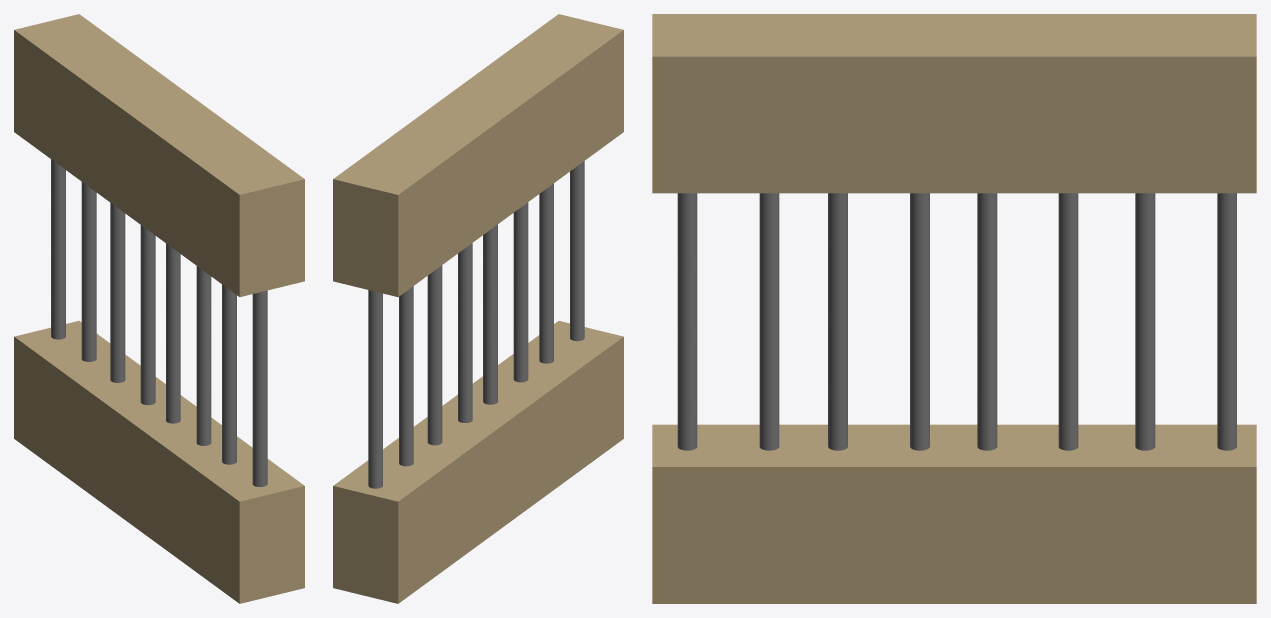
The model's file is WideWindow.fbx.
The picture shows the model from 3 angles, left to right: view 1: azimuth 30°, elevation 25°; view 2: azimuth 150°, elevation 25°; view 3: azimuth 270°, elevation 25°; orthographic projection. The views are drawn at different scales.
Visible parts, largest first — view 1: Box001; view 2: Box001; view 3: Box001.
Boxes of the visible parts, bbox=[...] form: Box001: bbox=[14, 14, 304, 603]; Box001: bbox=[333, 14, 623, 603]; Box001: bbox=[652, 14, 1256, 603].
Size of the model in its own units: 50 by 300 by 300.
